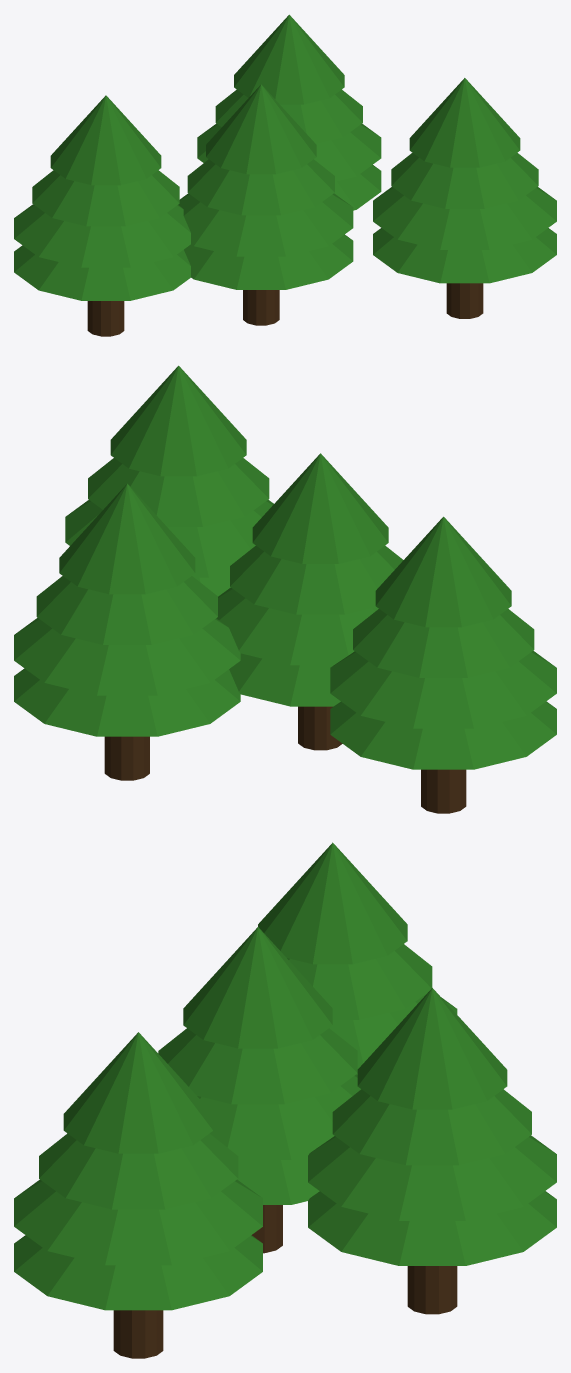
Rendered from terraform.glb.
3 views of the same model, one above another, from view 1: azimuth 30°, elevation 25°; view 2: azimuth 150°, elevation 25°; view 3: azimuth 270°, elevation 25° (orthographic). The views are drawn at different scales.
Parts seen in each view (by area): view 1: leaf (×16), root (×3); view 2: leaf (×15), root (×3); view 3: leaf (×15), root (×3).
Part boxes in pixels (box(x1,y1,x2,y2)): leaf (×16): box(14, 14, 556, 300); root (×3): box(87, 283, 483, 336); leaf (×15): box(14, 365, 556, 769); root (×3): box(104, 706, 466, 813); leaf (×15): box(14, 842, 556, 1310); root (×3): box(113, 1205, 457, 1358).
Size of the model in its own units: 0.875 by 0.4375 by 0.6813.
2 materials, 2 textured.
